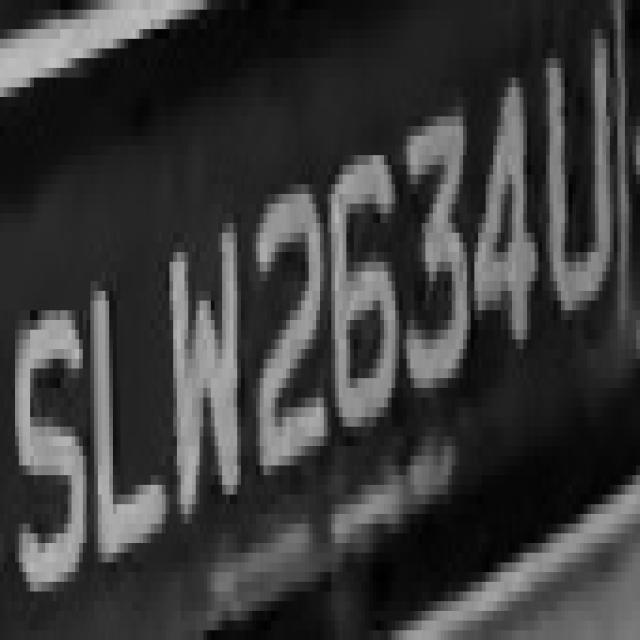2: (241, 155, 324, 485)
3: (388, 78, 470, 398)
4: (452, 49, 542, 368)
6: (316, 126, 399, 446)
L: (87, 242, 173, 543)
S: (8, 243, 86, 602)
U: (550, 19, 614, 310)
W: (151, 223, 241, 533)
